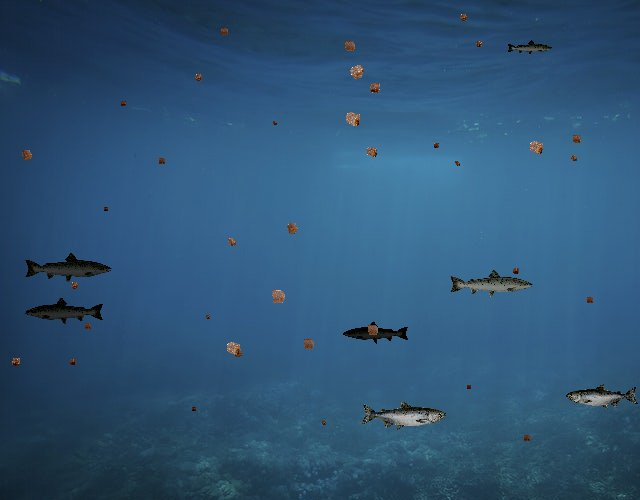Fish: (23, 251, 113, 283), (448, 268, 534, 299), (360, 400, 446, 431), (25, 297, 106, 326), (566, 383, 639, 410), (342, 320, 410, 345), (506, 40, 553, 57)
Pellet: (567, 130, 586, 149), (350, 60, 369, 79), (508, 264, 522, 278), (430, 140, 443, 153), (117, 98, 129, 110), (202, 312, 212, 322)
